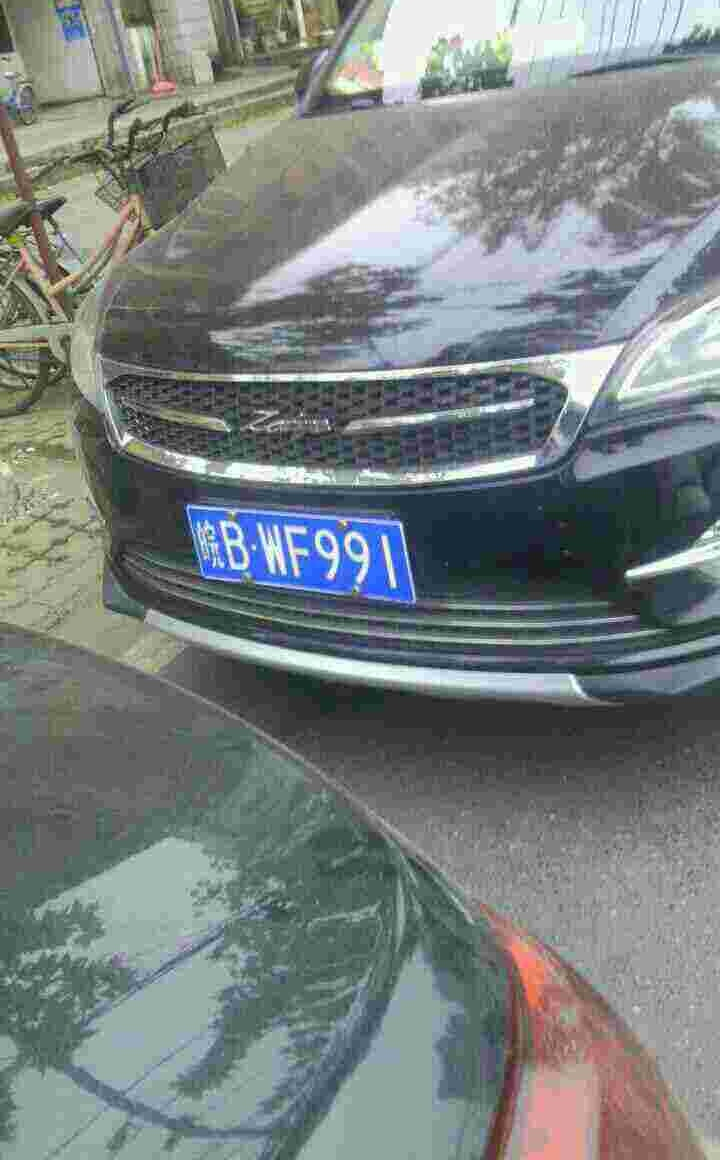license_plate: (198, 507, 407, 608)
